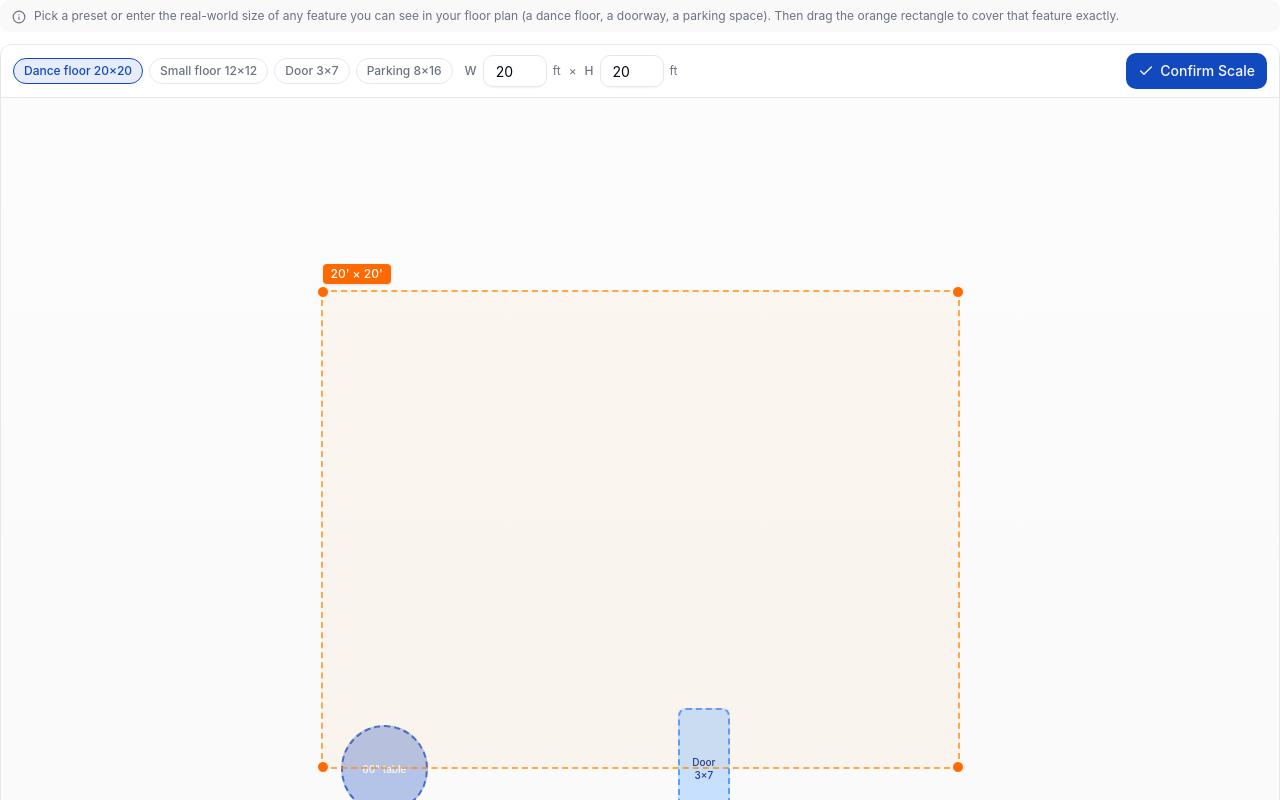
Test case: StepSetScale dimension validation › does not propagate values above the max (10 000 ft) and shows the error banner
Type "100000" into the number field labelled "H" at (632, 71), box [600,55,664,87]
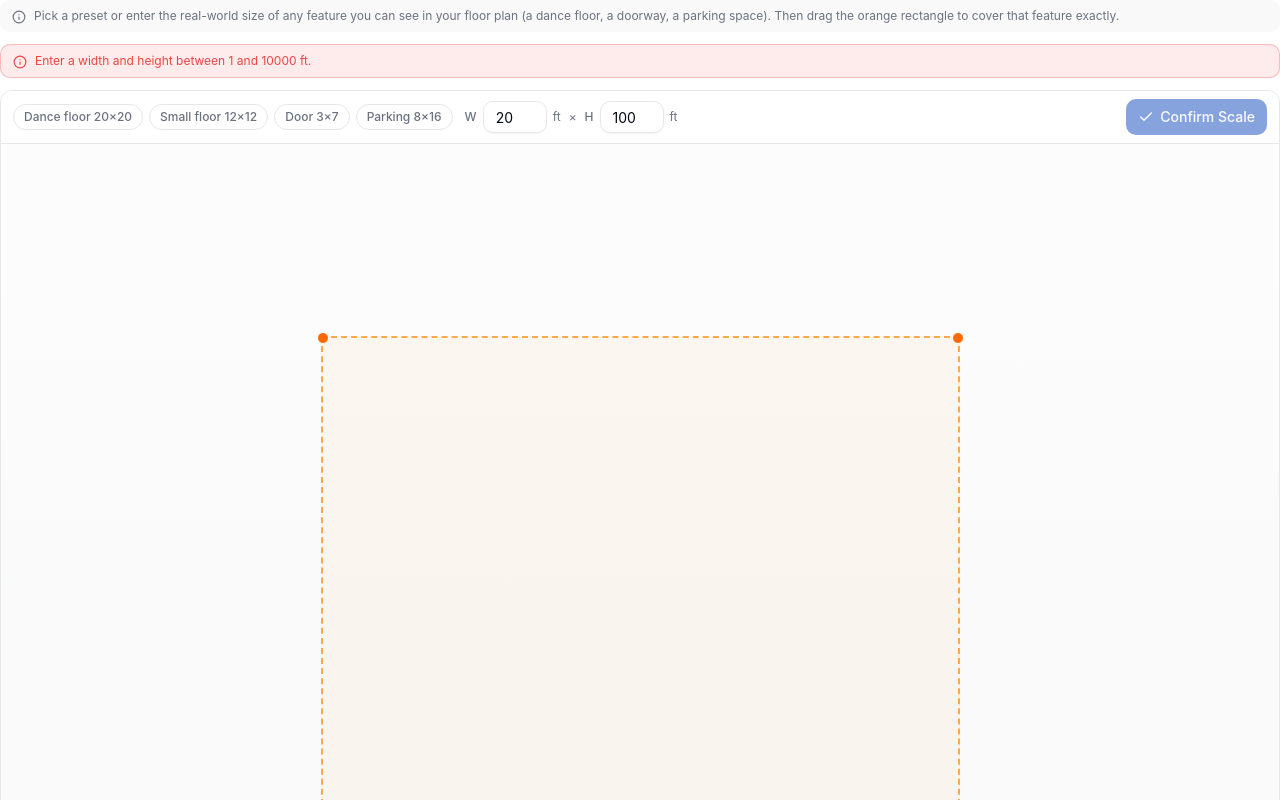
Now the text "Enter a width and height between 1 and 10000 ft." is shown, box [35,53,311,69]
Now the button "Confirm Scale" is disabled, box [1126,99,1267,135]
